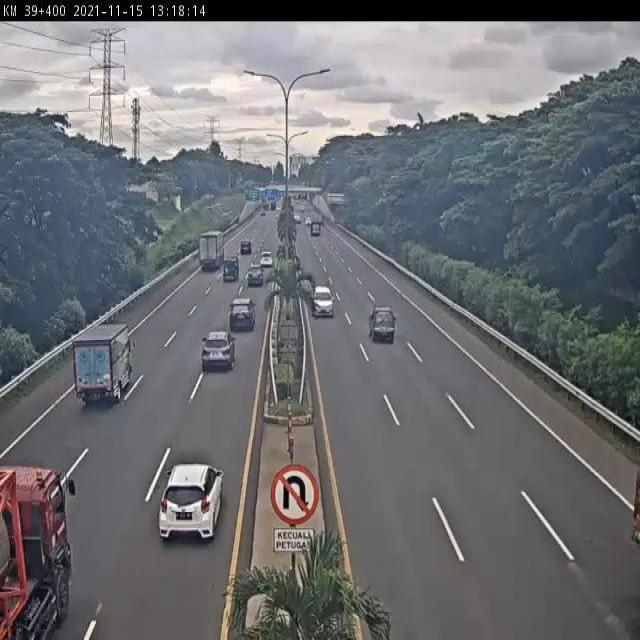car: (158, 463, 226, 541), (202, 329, 236, 372), (229, 296, 256, 332), (312, 285, 334, 316), (247, 262, 265, 286)
truck-s-: (72, 323, 133, 404), (369, 306, 396, 342)
